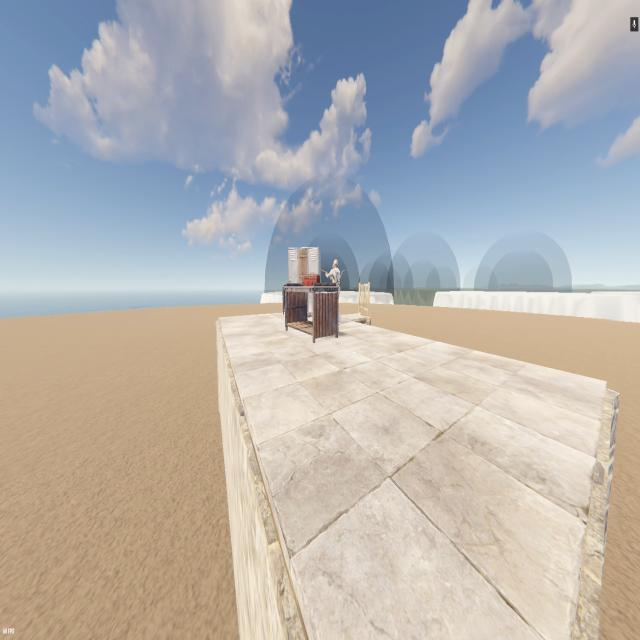Player: (325, 257, 342, 327)
